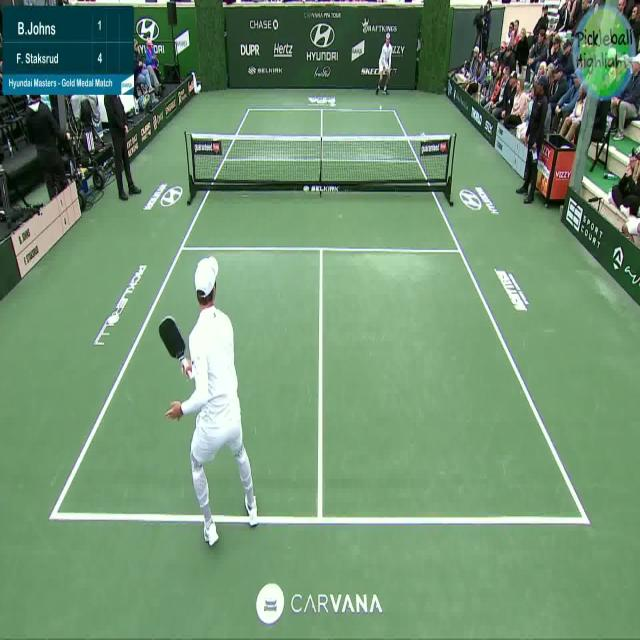ball: (378, 100, 386, 116)
